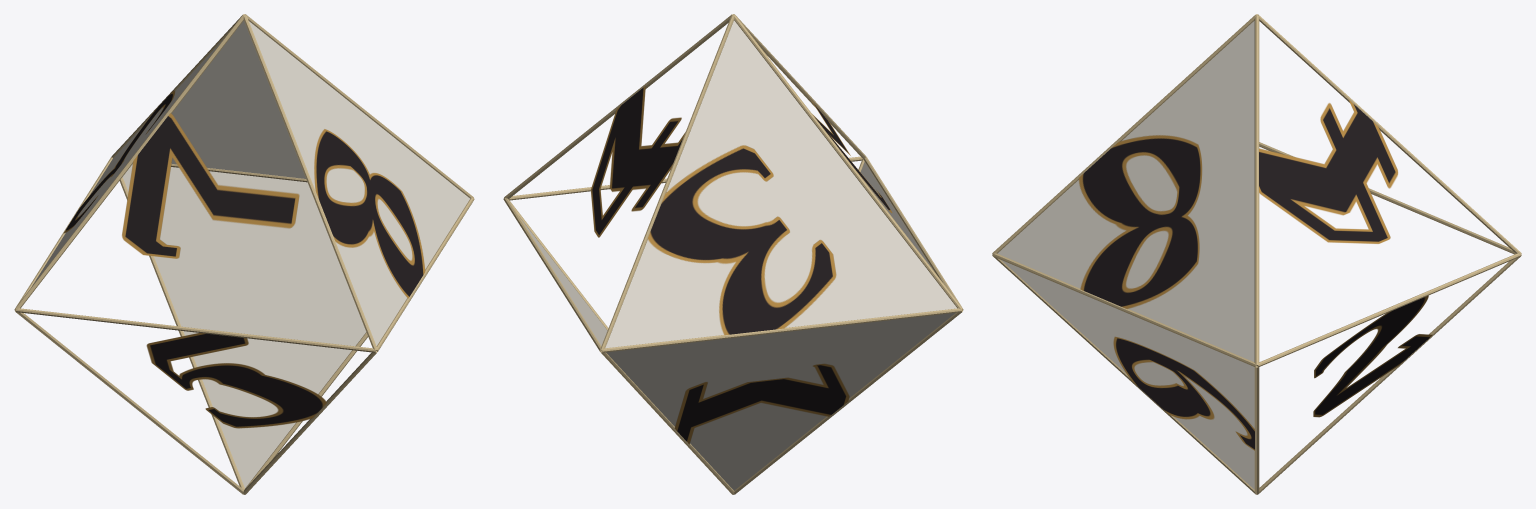
The picture shows the model from 3 angles, left to right: view 1: azimuth 30°, elevation 25°; view 2: azimuth 150°, elevation 25°; view 3: azimuth 270°, elevation 25°; orthographic projection.
Visible parts, largest first — view 1: DiceBody, GoldEdgeTrim, FaceLabel_7_7, FaceLabel_6_8, FaceLabel_2_5, FaceLabel_5_3; view 2: DiceBody, FaceLabel_5_3, GoldEdgeTrim, FaceLabel_4_4, FaceLabel_0_1, FaceLabel_7_7; view 3: DiceBody, FaceLabel_6_8, GoldEdgeTrim, FaceLabel_4_4, FaceLabel_3_6, FaceLabel_1_2.
Part boxes in pixels (x1=…): DiceBody: x1=32, y1=20, x2=469, y2=488; GoldEdgeTrim: x1=14, y1=14, x2=474, y2=494; FaceLabel_7_7: x1=122, y1=113, x2=299, y2=258; FaceLabel_6_8: x1=314, y1=129, x2=425, y2=298; FaceLabel_2_5: x1=146, y1=333, x2=326, y2=428; FaceLabel_5_3: x1=64, y1=91, x2=174, y2=233; DiceBody: x1=521, y1=20, x2=956, y2=490; FaceLabel_5_3: x1=647, y1=145, x2=836, y2=335; GoldEdgeTrim: x1=503, y1=14, x2=963, y2=494; FaceLabel_4_4: x1=591, y1=86, x2=685, y2=237; FaceLabel_0_1: x1=674, y1=363, x2=849, y2=444; FaceLabel_7_7: x1=810, y1=99, x2=892, y2=212; DiceBody: x1=997, y1=21, x2=1254, y2=489; FaceLabel_6_8: x1=1079, y1=135, x2=1202, y2=308; GoldEdgeTrim: x1=992, y1=14, x2=1521, y2=494; FaceLabel_4_4: x1=1259, y1=100, x2=1398, y2=243; FaceLabel_3_6: x1=1113, y1=336, x2=1254, y2=450; FaceLabel_1_2: x1=1313, y1=295, x2=1432, y2=417.
Bounding box in the file's own units: 2.01 × 2.01 × 2.01.
8 materials, 8 textured.
